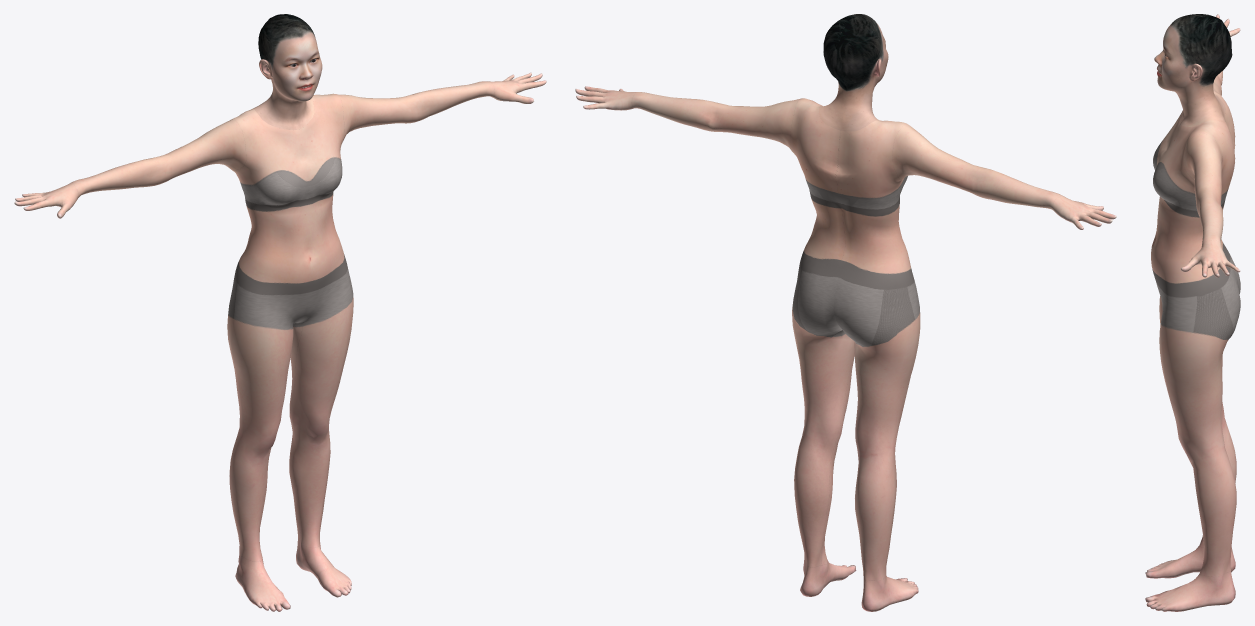
Rendered from full_body.obj.
3 views of the same model, side by side, from view 1: azimuth 30°, elevation 25°; view 2: azimuth 150°, elevation 25°; view 3: azimuth 270°, elevation 25° (orthographic).
Bounding box in the file's own units: 1.7 × 1.75 × 0.2636.
Materials: 1 (1 with a texture image).
